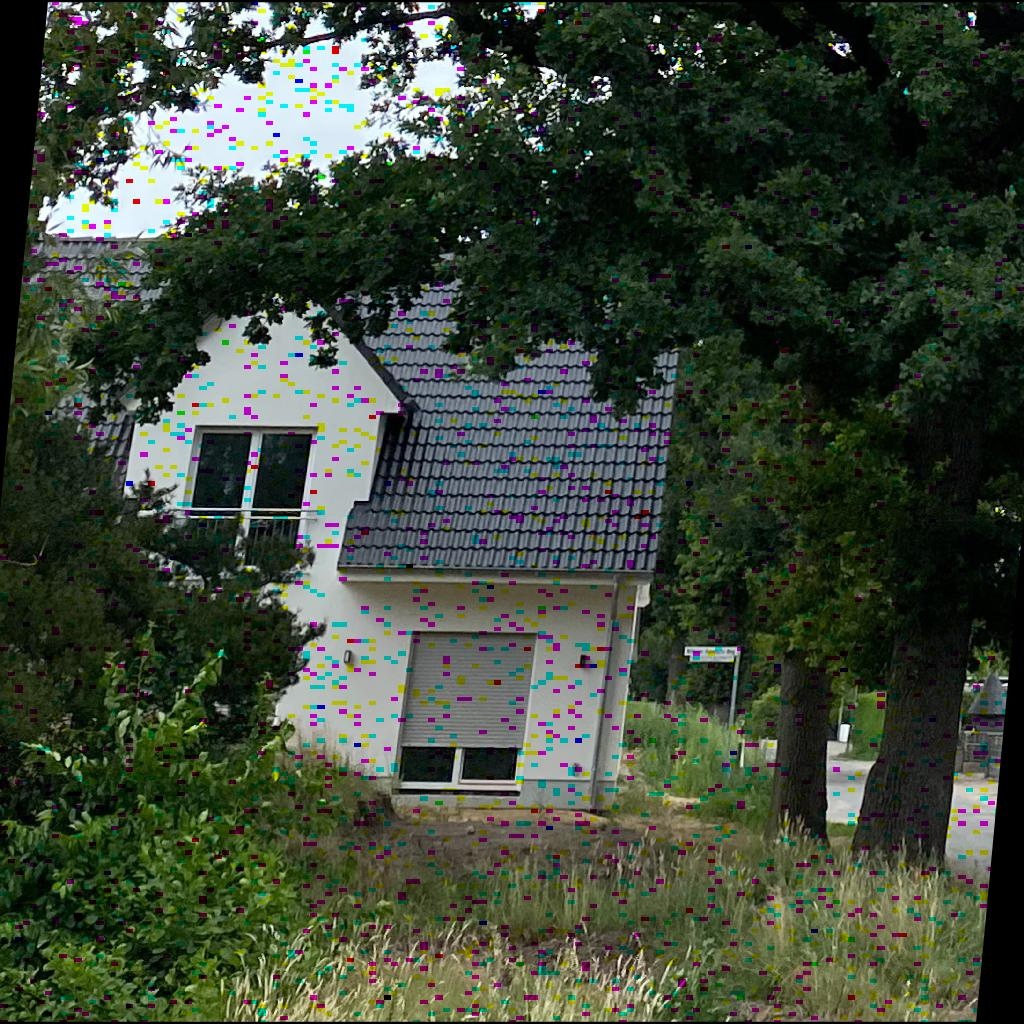tree: (70, 1, 1023, 881), (1, 1, 329, 832), (670, 382, 1003, 845)
